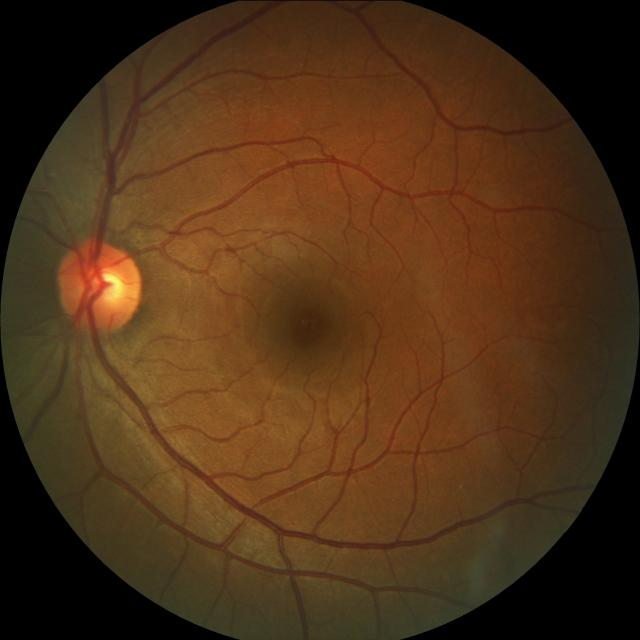OC: (85, 264, 124, 303)
OD: (55, 239, 140, 332)
